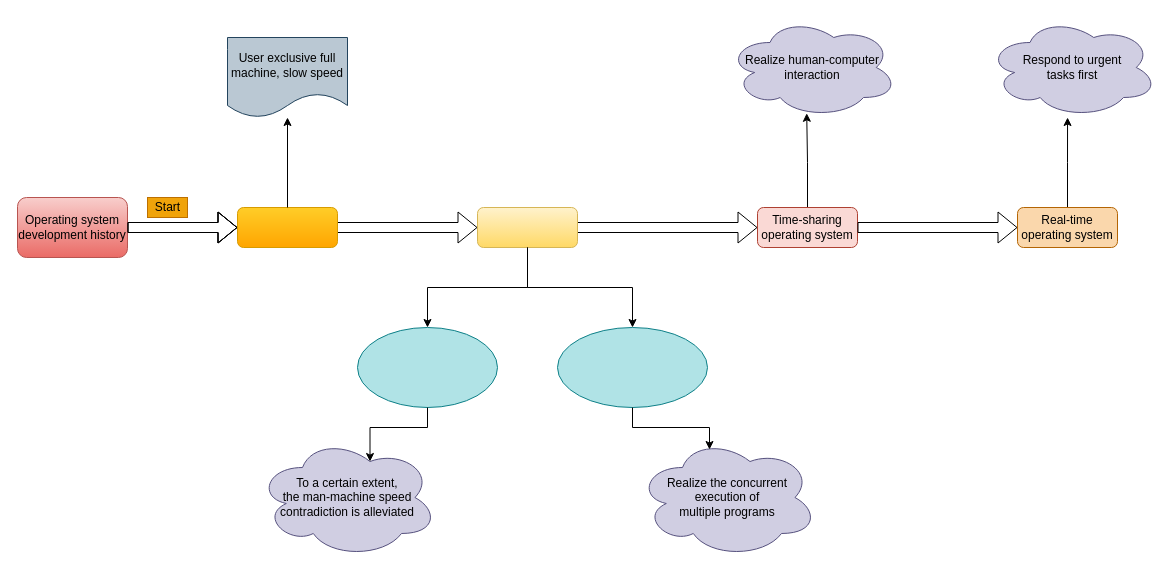
The diagram is 1175 pixels wide and 575 high, and some of its shapes have lost their labels. Here are the shapes that lost their labels. From the top down, the box of each, then its label:
(236, 206, 338, 248): Handmade stage
(476, 206, 578, 248): Batch stage
(356, 326, 498, 408): Simple Batch Processing
(556, 326, 708, 408): Multiprogrammed Batch Processing System
